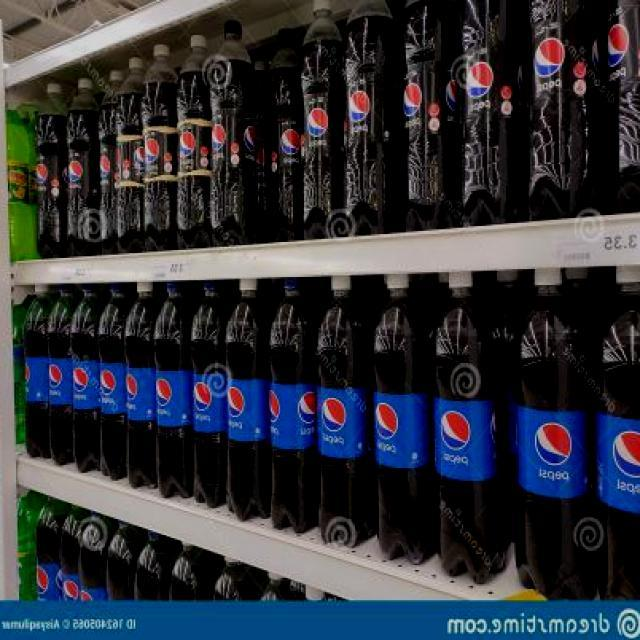Drinks: (514, 268, 594, 601), (433, 273, 505, 585), (371, 274, 433, 564), (457, 0, 527, 226), (594, 264, 640, 602), (316, 274, 372, 548), (526, 0, 596, 216), (396, 0, 456, 232), (341, 0, 398, 237), (268, 278, 316, 534), (209, 20, 259, 246), (297, 0, 342, 240), (226, 277, 268, 522), (191, 280, 231, 508), (598, 0, 640, 213), (154, 281, 192, 498), (264, 28, 301, 243), (140, 43, 178, 252), (124, 281, 161, 490), (176, 33, 208, 250), (97, 283, 131, 481), (69, 282, 103, 473), (66, 78, 100, 256), (34, 83, 68, 259), (116, 57, 146, 253), (46, 284, 78, 466), (23, 284, 55, 458), (97, 70, 123, 255), (33, 496, 59, 603), (78, 510, 108, 600), (58, 502, 81, 601)
